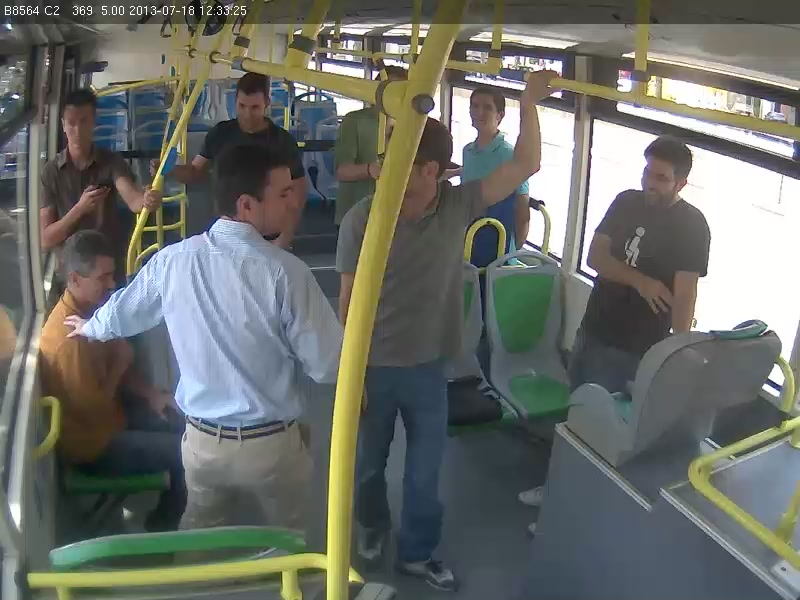Head: (205, 139, 301, 249), (58, 220, 123, 316), (401, 117, 460, 211), (630, 135, 700, 207), (53, 84, 104, 156), (230, 67, 285, 128), (466, 82, 511, 137)
